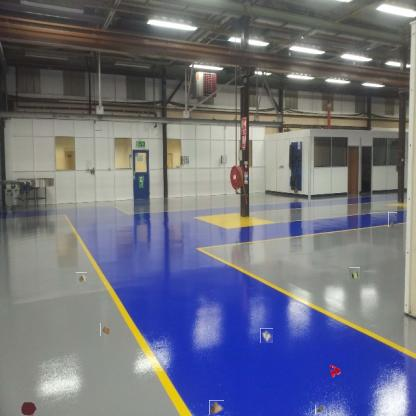dirty: (209, 400, 224, 415), (260, 328, 273, 343), (348, 267, 360, 280), (75, 272, 87, 285), (100, 322, 111, 336), (388, 212, 397, 227), (315, 406, 326, 416)
liquid: (21, 401, 37, 415), (328, 364, 342, 378)
